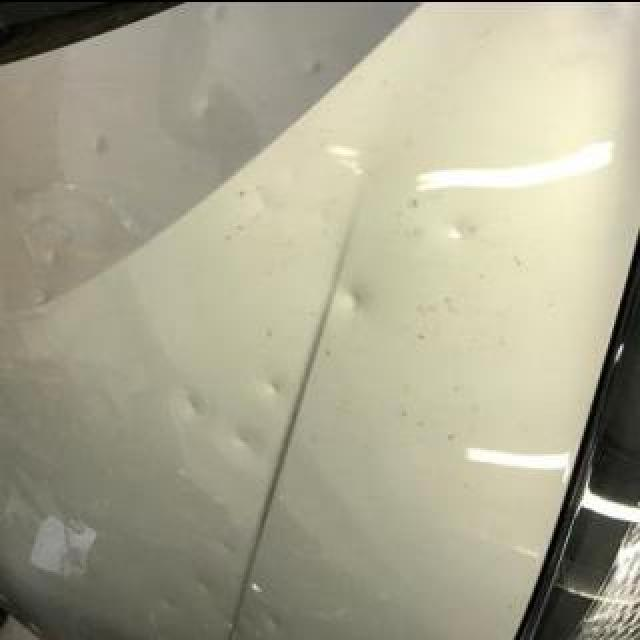dent: (343, 284, 371, 310), (196, 93, 218, 121), (447, 219, 473, 239), (181, 392, 205, 412), (230, 427, 256, 445), (307, 58, 327, 78), (262, 611, 286, 627), (93, 134, 113, 152), (266, 378, 286, 394), (196, 579, 218, 593), (229, 621, 247, 637), (163, 597, 181, 609)
